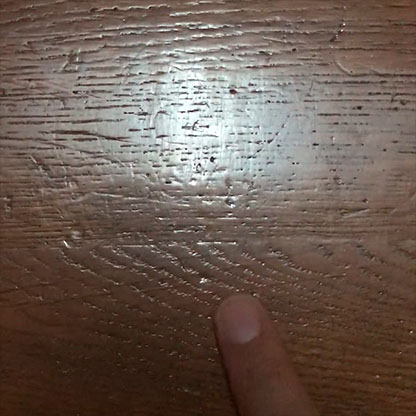fingertip: (203, 285, 279, 361)
